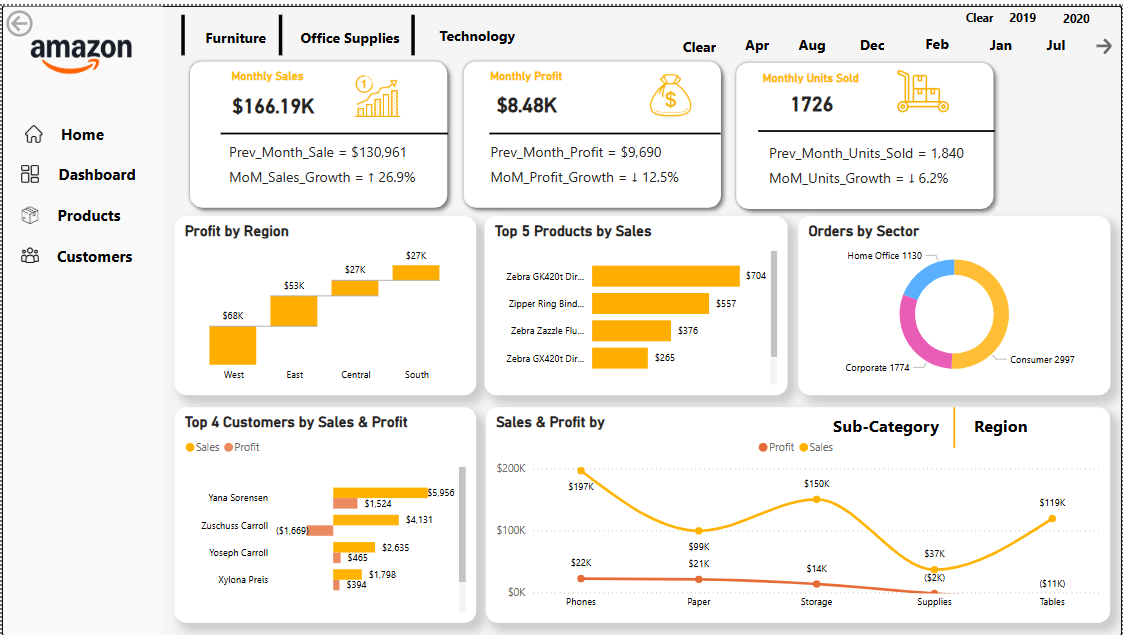

Layout of this report page (visuals, bound fields, positions):
{"tool":"powerbi","page":{"name":"Products","canvas":[1280,720],"ordinal":3},"visuals":[{"type":"shape","box":[206.1,53.8,312.1,185.2],"z":0},{"type":"card","title":"Monthly Sales","fields":{"Values":["Amazon_cleaned.Monthly_Sale"]},"box":[256.8,73.2,106,67.2],"z":1000},{"type":"actionButton","box":[0,0,100,40],"z":2000},{"type":"textbox","box":[1.4,0,182.3,720.7],"z":3000},{"type":"actionButton","box":[14.9,125.4,155.3,40.3],"z":4000},{"type":"actionButton","box":[20.9,173.2,174.7,38.8],"z":5000},{"type":"actionButton","box":[16.4,218,167.2,40.3],"z":6000},{"type":"actionButton","box":[20.9,265.8,168.7,38.8],"z":7000},{"type":"image","box":[14.9,131.4,43.3,29.9],"z":8000},{"type":"image","box":[10.5,177.7,43.3,29.9],"z":9000},{"type":"image","box":[10.5,224,43.3,29.9],"z":10000},{"type":"image","box":[10.5,270.3,44.8,29.9],"z":11000},{"type":"image","box":[6,19.4,170.2,76.2],"z":12000},{"type":"shape","box":[250,128.4,259.8,34.3],"z":13000},{"type":"multiRowCard","fields":{"Values":["Amazon_cleaned.Prev_Month_Sale_Display","Amazon_cleaned.MoM_Sales_Growth_Display"]},"box":[253.9,149.3,244.9,74.7],"z":14000},{"type":"shape","box":[518.2,53.8,312.1,185.2],"z":15000},{"type":"shape","box":[830.3,55.3,312.1,185.2],"z":16000},{"type":"card","title":"Monthly Profit","fields":{"Values":["Amazon_cleaned.Monthly_Profit"]},"box":[552.5,73.2,94.1,64.2],"z":17000},{"type":"shape","box":[557,128.4,264.3,34.3],"z":18000},{"type":"card","title":"Monthly Units Sold","fields":{"Values":["Amazon_cleaned.Monthly_Units_Sold"]},"box":[864.6,74.7,122.4,61.2],"z":19000},{"type":"shape","box":[864.6,125.4,270.3,34.3],"z":20000},{"type":"image","box":[362.9,68.7,132.9,68.7],"z":21000},{"type":"image","box":[698.8,67.2,131.4,68.7],"z":22000},{"type":"image","box":[987,62.7,131.4,68.7],"z":23000},{"type":"multiRowCard","fields":{"Values":["Amazon_cleaned.Previous_Month_Profit_Display","Amazon_cleaned.MoM_Profit_Growth_Display"]},"box":[552.5,149.3,246.4,64.2],"z":24000},{"type":"multiRowCard","fields":{"Values":["Amazon_cleaned.Previous_Month_Units_Sold_Display","Amazon_cleaned.MoM_Units_Growth_Display"]},"box":[872.1,150.8,246.4,62.7],"z":25000},{"type":"waterfallChart","title":"Profit by Region","fields":{"Category":["Amazon_cleaned.Region"],"Y":["Amazon_cleaned.Profit"]},"box":[196.7,240,345,205],"z":26000},{"type":"clusteredBarChart","title":"Top 5 Products by Sales","fields":{"Category":["Amazon_cleaned.Product Name"],"Y":["Amazon_cleaned.Sales"]},"box":[551.7,240,346.7,205],"z":27000},{"type":"donutChart","title":"Orders by Sector","fields":{"Category":["Amazon_cleaned.Segment"],"Y":["Amazon_cleaned.Order ID"]},"box":[910,240,356.7,205],"z":28000},{"type":"clusteredBarChart","title":"Top 4 Customers by Sales & Profit","fields":{"Category":["Amazon_cleaned.Customer Name"],"Y":["Amazon_cleaned.Sales","Amazon_cleaned.Profit"]},"box":[196.7,458.3,345,246.7],"z":29000},{"type":"lineChart","title":"Sales & Profit by ","fields":{"Y":["Amazon_cleaned.Profit","Amazon_cleaned.Sales"],"Category":["Amazon_cleaned.Sub-Category"]},"box":[553.3,458.3,713.3,246.7],"z":30000},{"type":"actionButton","box":[1091.7,458.3,100,40],"z":32000},{"type":"actionButton","box":[943.3,458.3,135,40],"z":33000},{"type":"shape","box":[1060,458.3,56.7,46.7],"z":34000},{"type":"actionButton","box":[206.7,16.7,120,36.7],"z":35000},{"type":"actionButton","box":[335,16.7,126.7,36.7],"z":36000},{"type":"actionButton","box":[495,15,95,36.7],"z":37000},{"type":"shape","box":[198.3,10,16.7,46.7],"z":38000},{"type":"shape","box":[310,10,16.7,46.7],"z":39000},{"type":"shape","box":[461.7,10,16.7,46.7],"z":40000},{"type":"actionButton","box":[1141.7,0,50,25],"z":42000},{"type":"actionButton","box":[1203.3,1.7,50,25],"z":43000},{"type":"actionButton","box":[1091.7,0,51.7,25],"z":44000},{"type":"actionButton","box":[826.7,26.7,71.7,33.3],"z":45000},{"type":"actionButton","box":[890,26.7,71.7,33.3],"z":47000},{"type":"actionButton","box":[958.3,26.7,71.7,33.3],"z":48000},{"type":"actionButton","box":[1033.3,25,71.7,33.3],"z":49000},{"type":"actionButton","box":[1105,26.7,71.7,33.3],"z":50000},{"type":"actionButton","box":[1168.3,26.7,71.7,33.3],"z":51000},{"type":"actionButton","box":[1245,33.3,35,26.7],"z":52000},{"type":"actionButton","box":[766.7,28.3,60,35],"z":53000}]}

Visuals, with their boxes in screenshot pixels (x1, y1, x2, y2), scaled from the page's 1280x720 canvas onto the 1123x635 screenshot:
shape: 181:47:455:211
"Monthly Sales" card: 225:65:318:124
actionButton: 0:0:88:35
textbox: 1:0:161:634
actionButton: 13:111:149:146
actionButton: 18:153:172:187
actionButton: 14:192:161:228
actionButton: 18:234:166:269
image: 13:116:51:142
image: 9:157:47:183
image: 9:198:47:224
image: 9:238:49:265
image: 5:17:155:84
shape: 219:113:447:143
multiRowCard - Amazon_cleaned.Prev_Month_Sale_Display x Amazon_cleaned.MoM_Sales_Growth_Display: 223:132:438:198
shape: 455:47:728:211
shape: 728:49:1002:212
"Monthly Profit" card: 485:65:567:121
shape: 489:113:721:143
"Monthly Units Sold" card: 759:66:866:120
shape: 759:111:996:141
image: 318:61:435:121
image: 613:59:728:120
image: 866:55:981:116
multiRowCard - Amazon_cleaned.Previous_Month_Profit_Display x Amazon_cleaned.MoM_Profit_Growth_Display: 485:132:701:188
multiRowCard - Amazon_cleaned.Previous_Month_Units_Sold_Display x Amazon_cleaned.MoM_Units_Growth_Display: 765:133:981:188
"Profit by Region" waterfallChart: 173:212:475:392
"Top 5 Products by Sales" clusteredBarChart: 484:212:788:392
"Orders by Sector" donutChart: 798:212:1111:392
"Top 4 Customers by Sales & Profit" clusteredBarChart: 173:404:475:622
"Sales & Profit by " lineChart: 485:404:1111:622
actionButton: 958:404:1046:439
actionButton: 828:404:946:439
shape: 930:404:980:445
actionButton: 181:15:287:47
actionButton: 294:15:405:47
actionButton: 434:13:518:46
shape: 174:9:189:50
shape: 272:9:287:50
shape: 405:9:420:50
actionButton: 1002:0:1046:22
actionButton: 1056:1:1100:24
actionButton: 958:0:1003:22
actionButton: 725:24:788:53
actionButton: 781:24:844:53
actionButton: 841:24:904:53
actionButton: 907:22:969:51
actionButton: 969:24:1032:53
actionButton: 1025:24:1088:53
actionButton: 1092:29:1122:53
actionButton: 673:25:725:56
